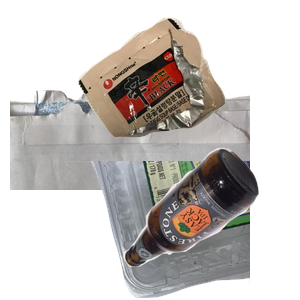glass: (120, 145, 300, 300)
paper: (10, 84, 250, 264)
plastic: (23, 161, 263, 300)
trash: (76, 15, 300, 145)
